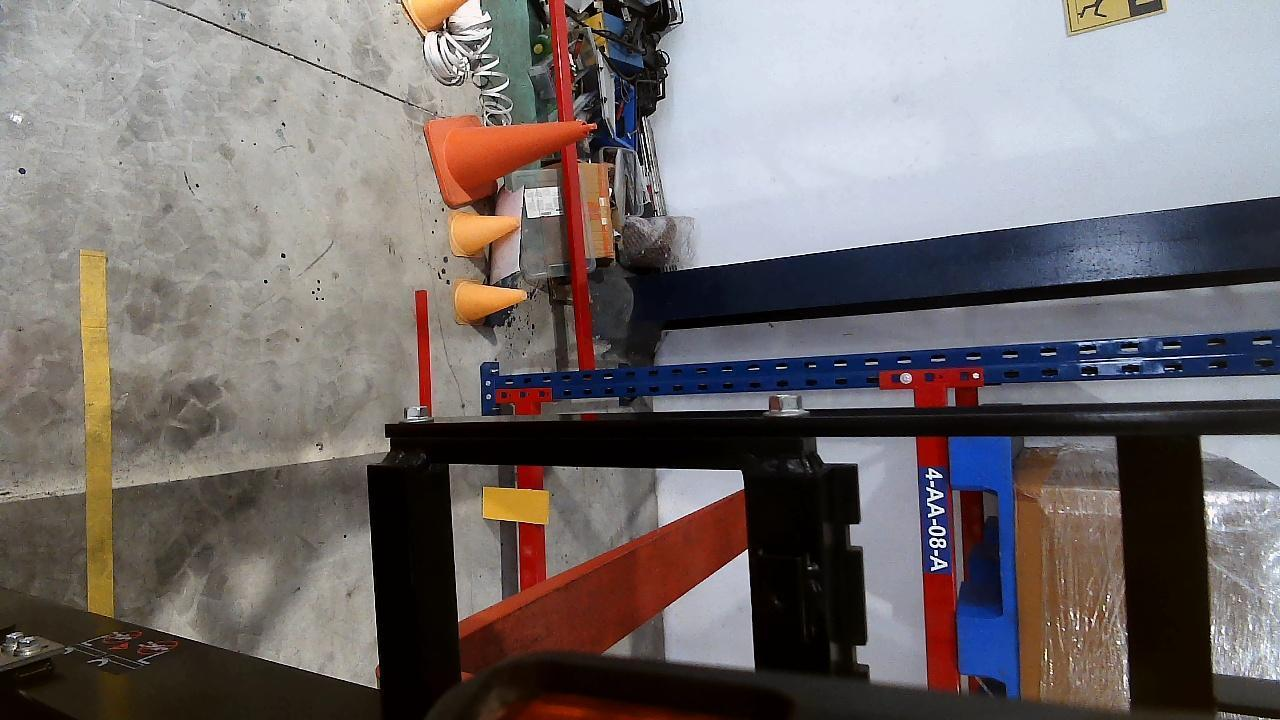red_line: (414, 289, 433, 416)
yellow_line: (80, 250, 113, 618)
